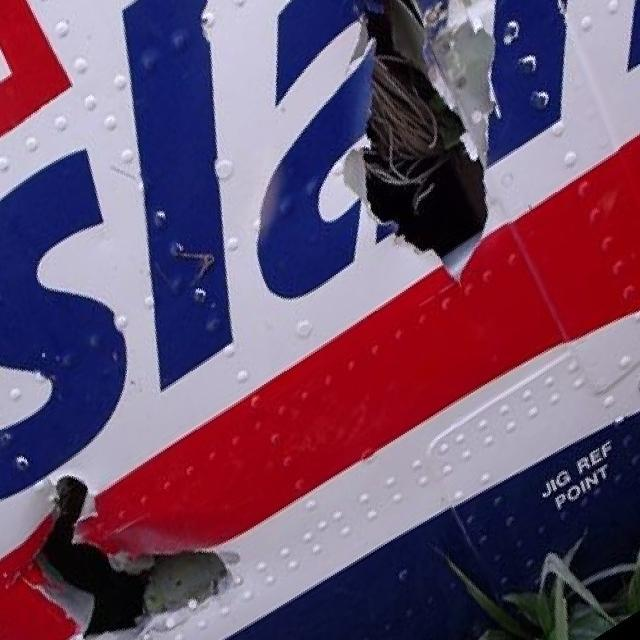crack: (346, 2, 501, 293), (29, 469, 247, 640)
